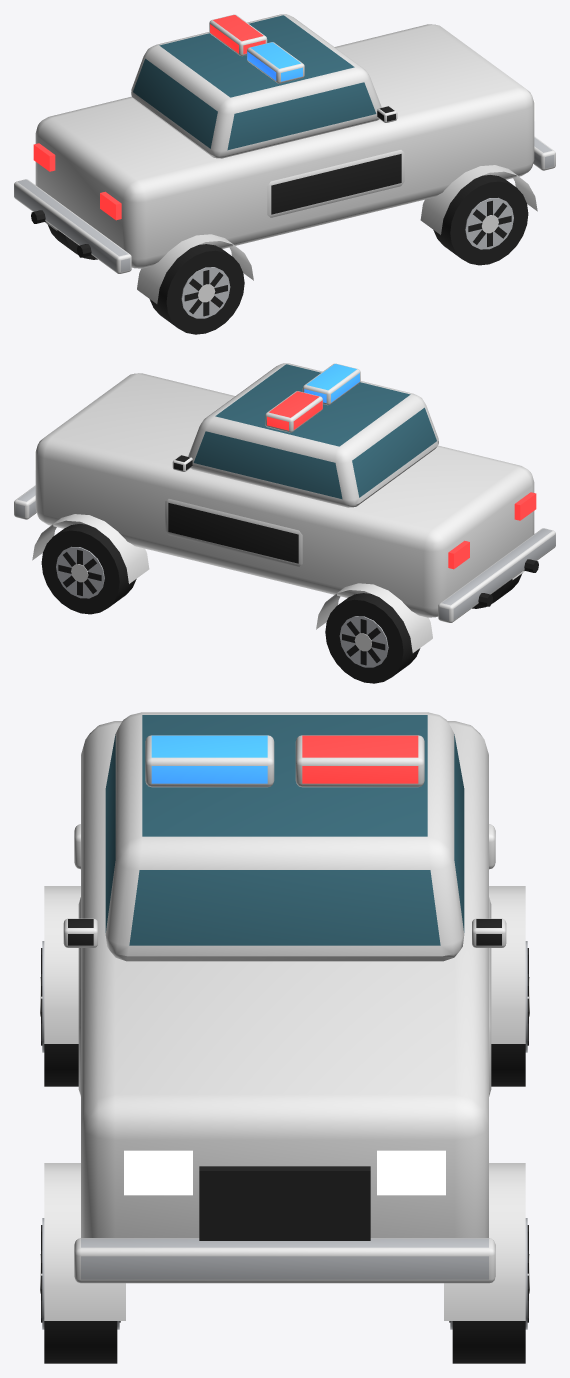
Rendered from sheriff-9.glb.
3 renders of one model, top to bottom at view 1: azimuth 30°, elevation 25°; view 2: azimuth 150°, elevation 25°; view 3: azimuth 270°, elevation 25°, orthographic. The views are drawn at different scales.
Visible parts, largest first — view 1: body, wheel_FR, wheel_RR; view 2: body, wheel_FL, wheel_RL; view 3: body, wheel_FL, wheel_FR, wheel_RL, wheel_RR.
Boxes of the visible parts, box(x1,y1,x2,y2) form: body: box(14, 14, 555, 303); wheel_FR: box(433, 175, 528, 265); wheel_RR: box(149, 244, 244, 334); body: box(14, 363, 555, 652); wheel_FL: box(41, 524, 136, 614); wheel_RL: box(325, 593, 420, 683); body: box(44, 712, 525, 1320); wheel_FL: box(449, 1218, 529, 1363); wheel_FR: box(40, 1218, 120, 1363); wheel_RL: box(491, 941, 529, 1086); wheel_RR: box(40, 941, 78, 1086).
Bounding box in the file's own units: 4.81 × 2.27 × 2.28.
